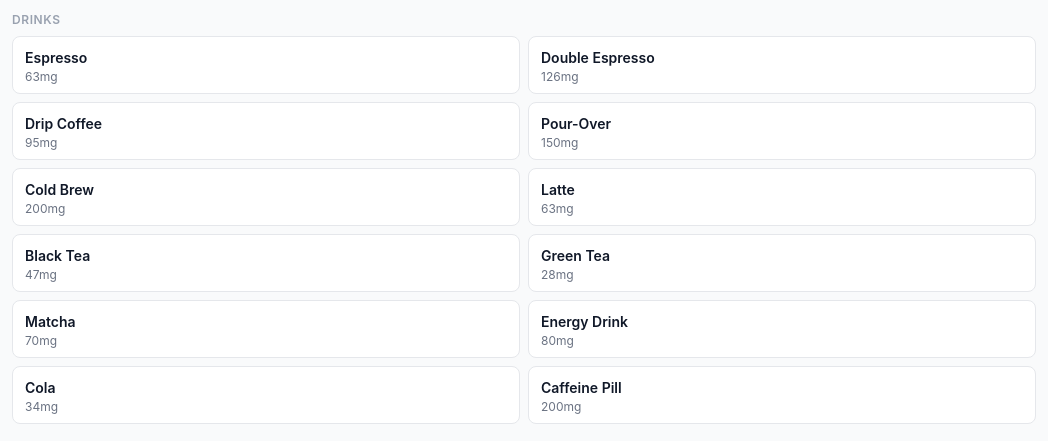
Scenario: DrinkPresets › first tap selects preset with purple confirmation state
The image size is (1048, 441).
# Click Espresso once
Click the text "Espresso" at (56, 58), box [25,49,87,66]
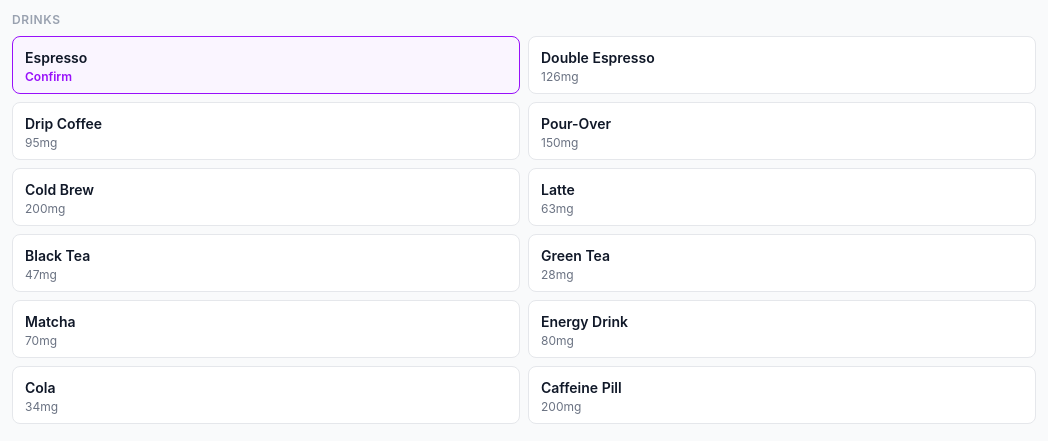
Expected: the text "63mg" is shown once, [541,201,574,216]
Expected: the text "Confirm" is shown, [25,69,72,84]
